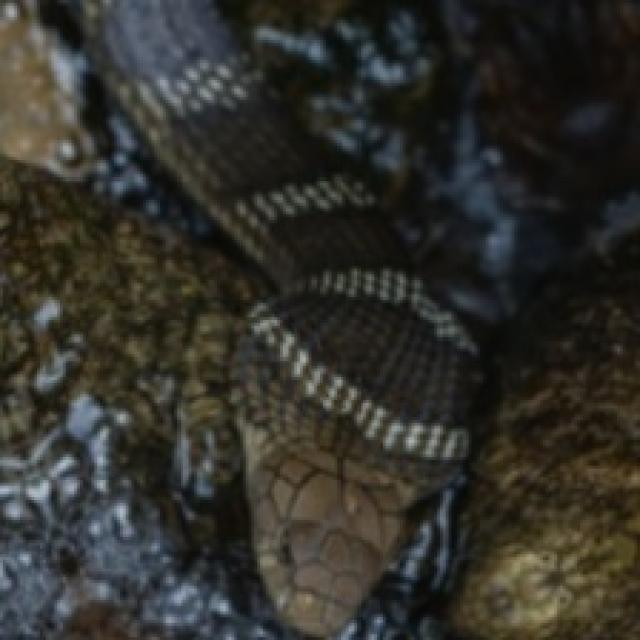king cobra: (0, 0, 474, 637)
